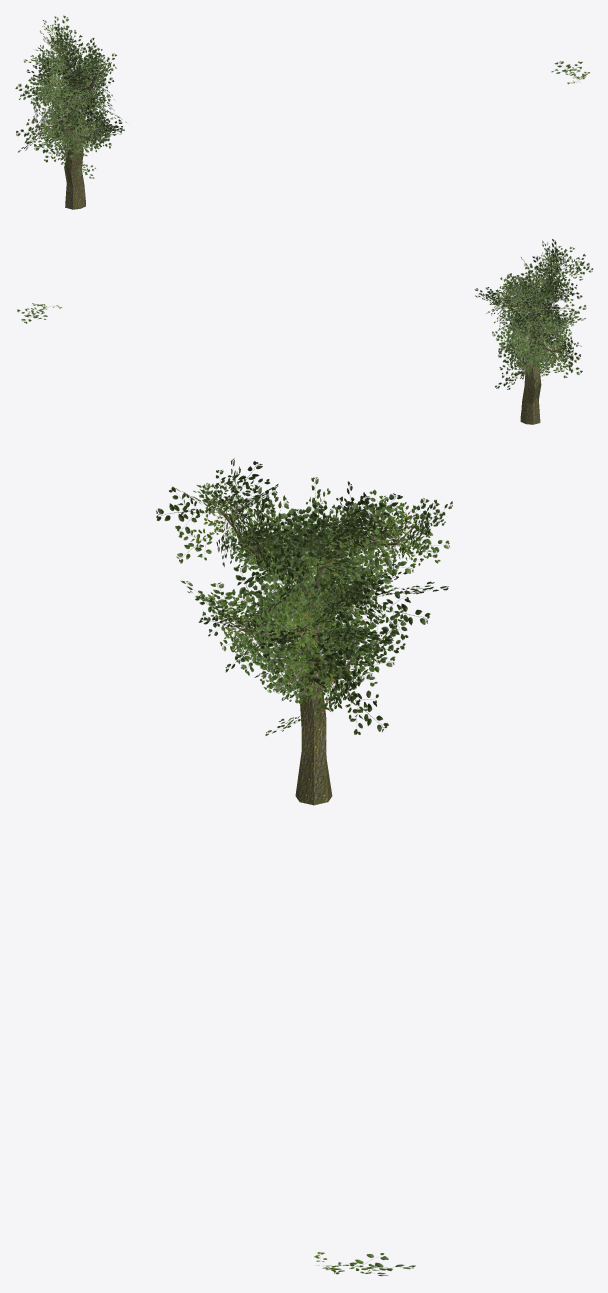
Rendered from Tree.glb.
3 views of the same model, one above another, from view 1: azimuth 30°, elevation 25°; view 2: azimuth 150°, elevation 25°; view 3: azimuth 270°, elevation 25° (orthographic). The views are drawn at different scales.
Parts seen in each view (by area): view 1: Cube, Image.001; view 2: Cube, Image.001 (×2); view 3: Cube.
Boxes of the visible parts, x1,y1,x2,y2 form: Cube: [38, 41, 111, 209]; Image.001: [551, 61, 590, 84]; Cube: [502, 256, 561, 424]; Image.001 (×2): [17, 303, 582, 378]; Cube: [218, 508, 414, 805].
Bounding box in the file's own units: 37.83 × 11.22 × 8.99.
2 materials, 2 textured.
